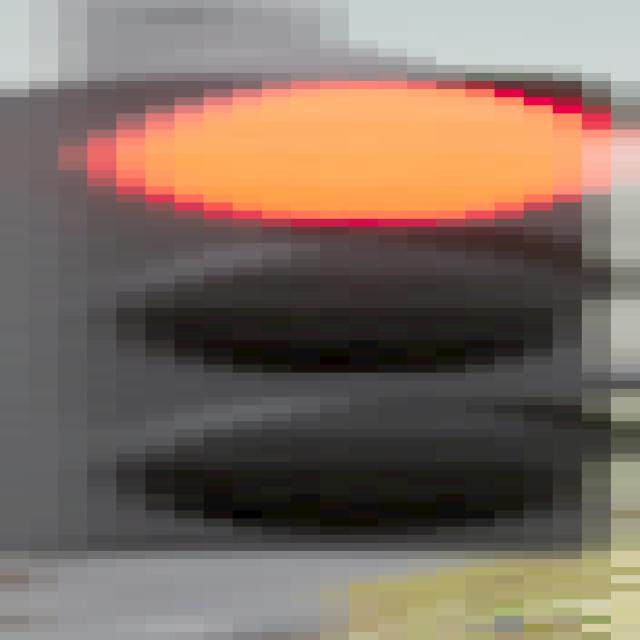red_light: (8, 74, 640, 557)
